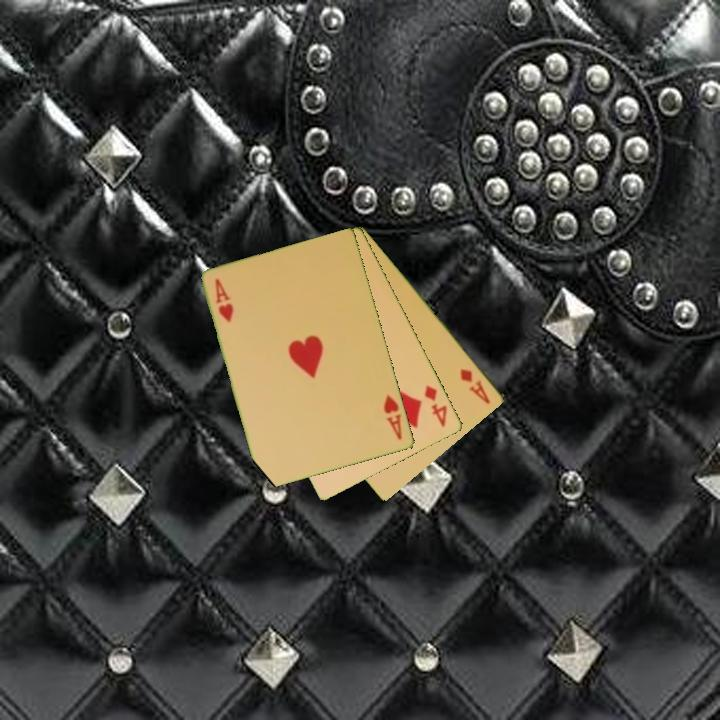4d: (421, 382, 450, 430)
Ad: (457, 365, 494, 407)
Ah: (380, 391, 405, 443), (212, 275, 237, 325)
